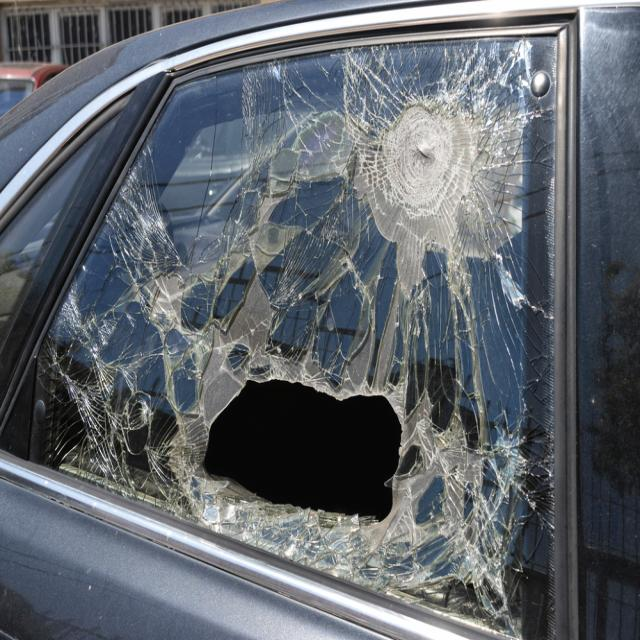glass shatter: (0, 36, 558, 640)
